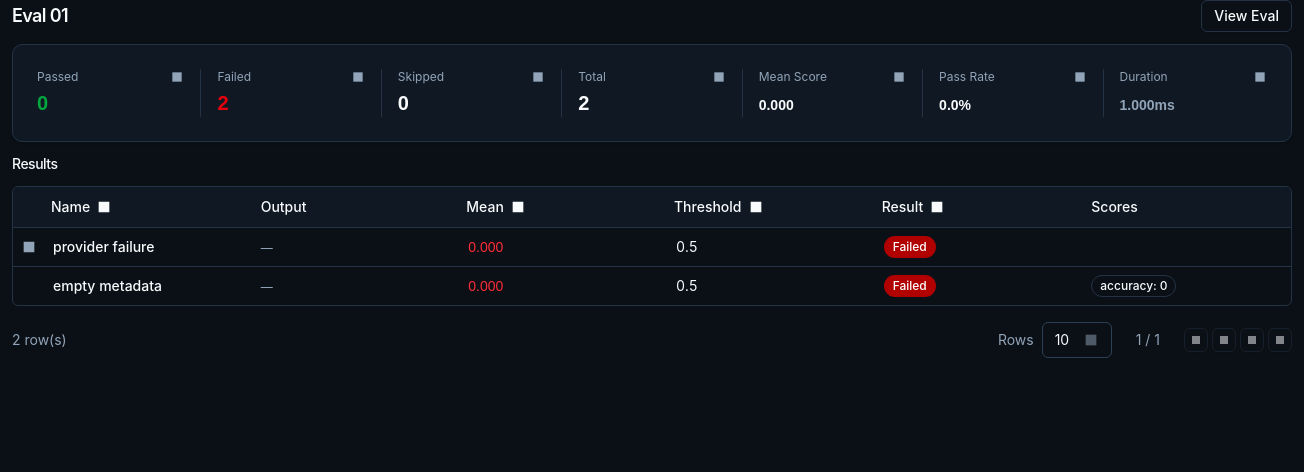
Test case: ResultsDetail › should expose provider execution diagnostics and leave cases with empty metadata unexpanded
The width and height of the screenshot is (1304, 472).
Click the button "provider failure — 0.000 0.5 Failed" at (104, 246), box [13,227,1291,266]
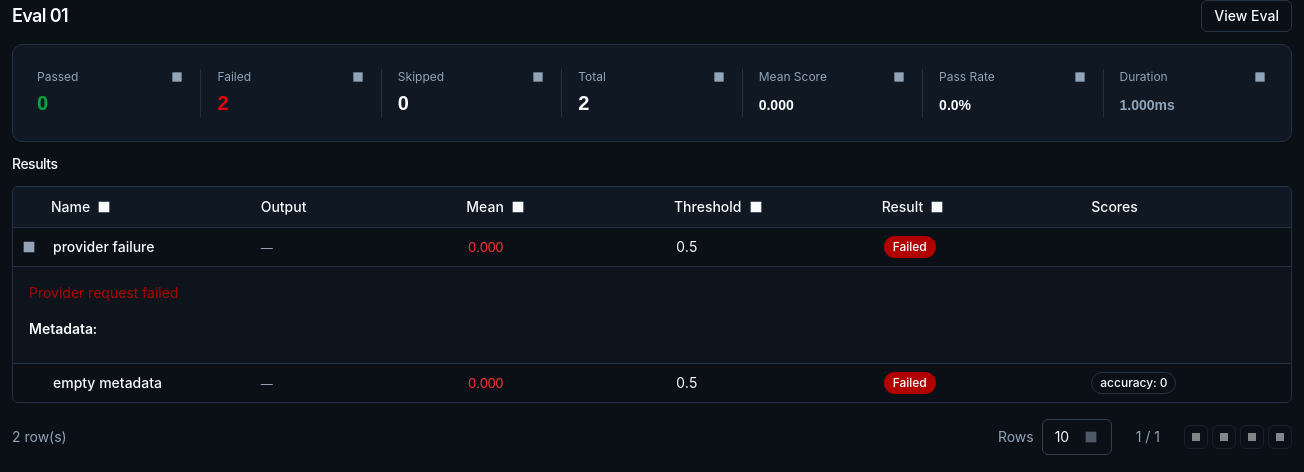
expect the text "0" below "Skipped" is shown: met, box [398,92,409,114]
expect the message reads "Provider request failed": met, box [29,284,178,300]
